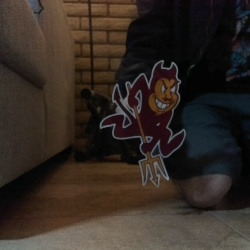sparky: (98, 59, 185, 186)
